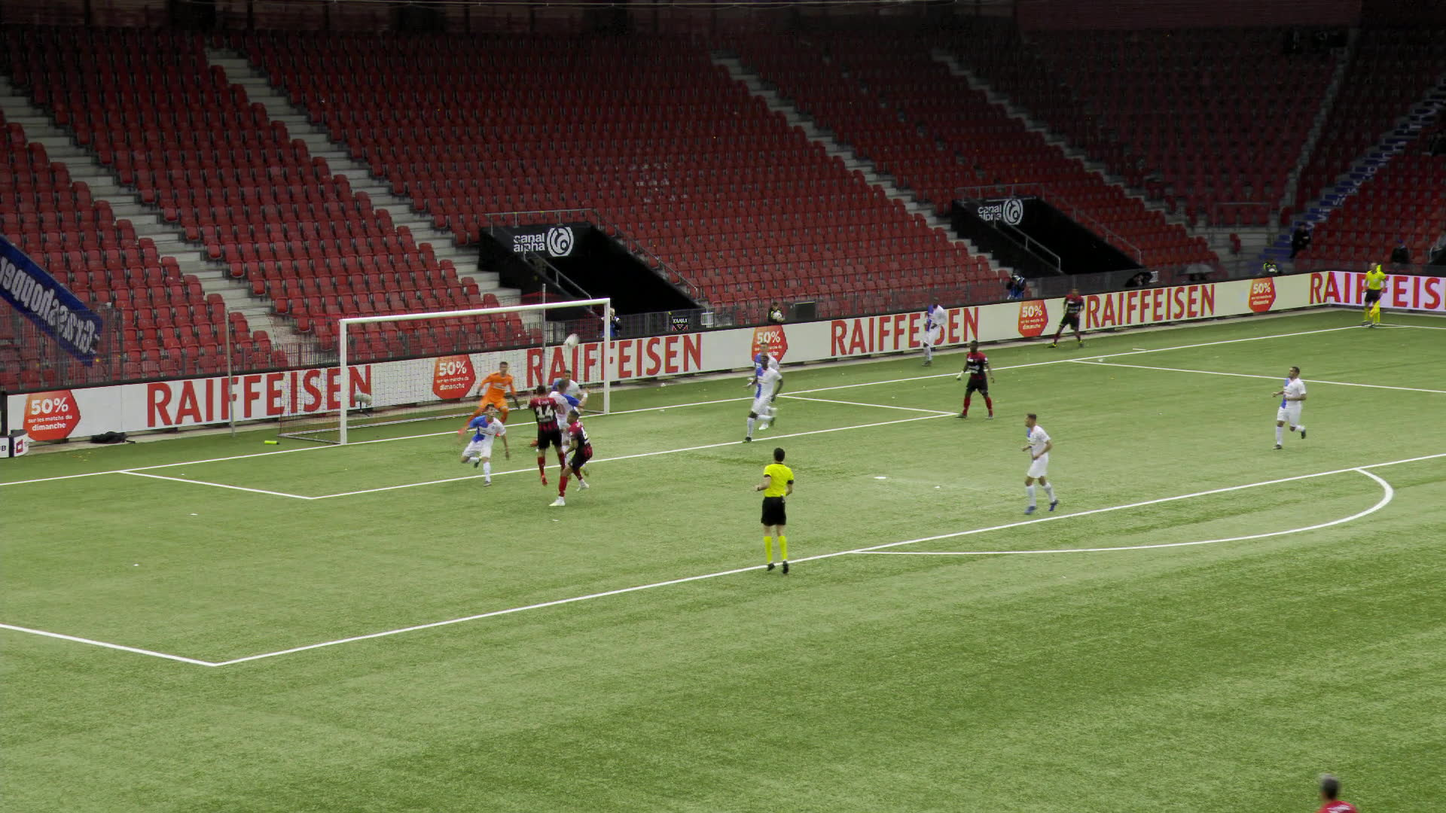ball: (564, 333, 578, 349)
player: (529, 381, 567, 488), (553, 411, 595, 506), (453, 404, 503, 481), (743, 353, 783, 442), (471, 360, 521, 431), (1023, 416, 1057, 514), (1270, 364, 1309, 449), (955, 340, 995, 420), (548, 384, 587, 457), (753, 340, 782, 426), (914, 297, 946, 367), (1050, 287, 1085, 350), (557, 370, 588, 431), (1312, 773, 1356, 812)
referee: (755, 452, 798, 575), (1356, 263, 1383, 327)
